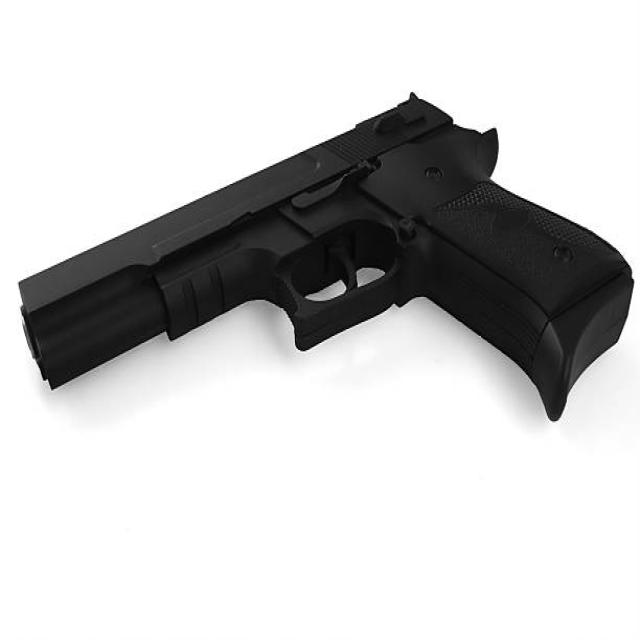pistol: (13, 86, 637, 426)
